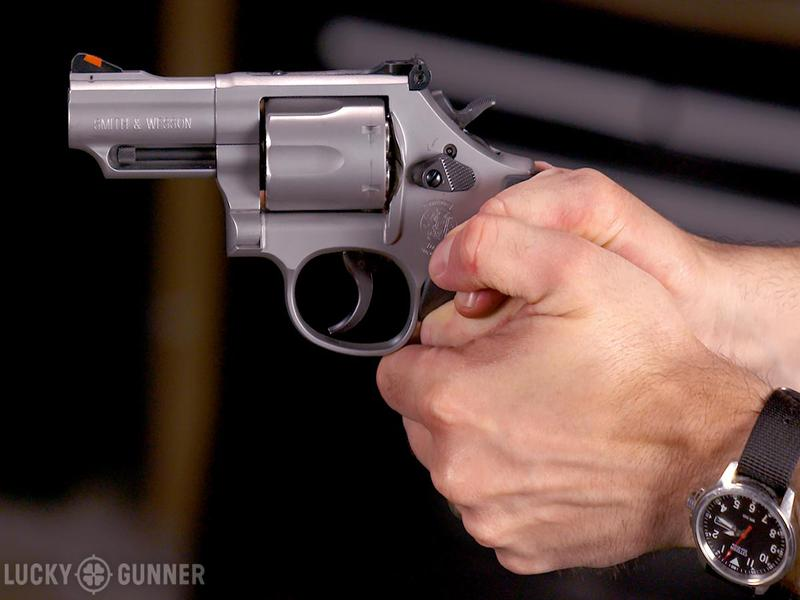Revolver: (56, 36, 552, 363)
